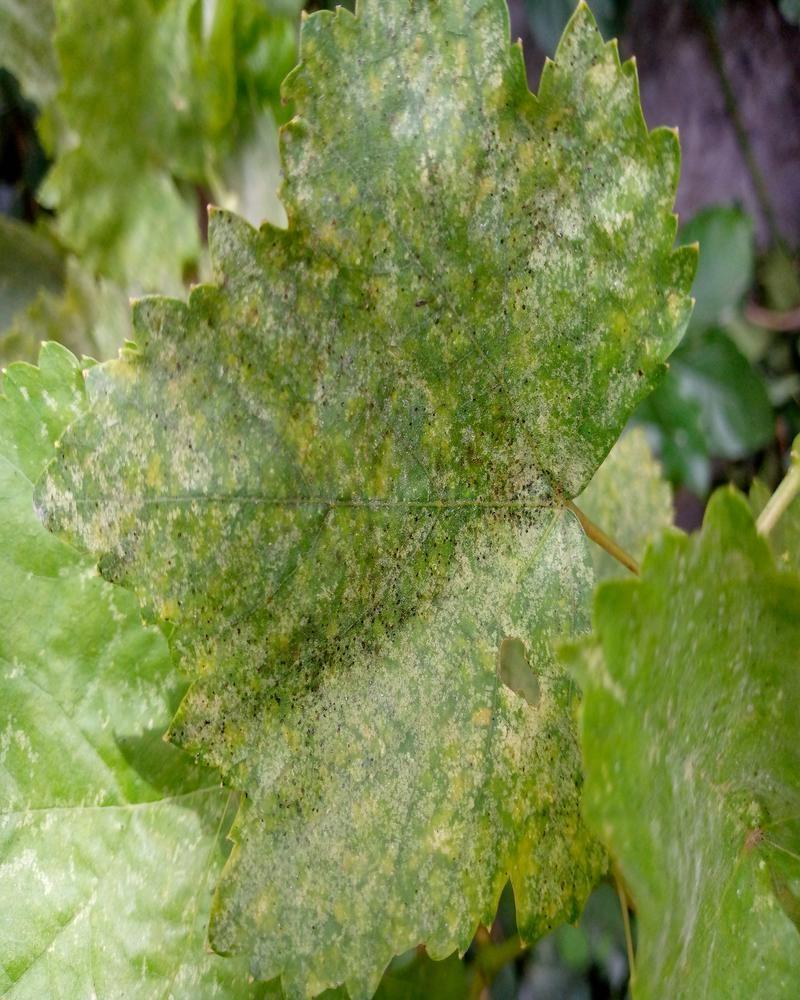Powdery-Mildew: (29, 325, 266, 561), (288, 656, 483, 897), (432, 458, 589, 687), (315, 0, 489, 206), (546, 27, 643, 238), (283, 283, 386, 449), (504, 258, 567, 321), (255, 648, 318, 711), (231, 867, 294, 930), (295, 909, 358, 972)
